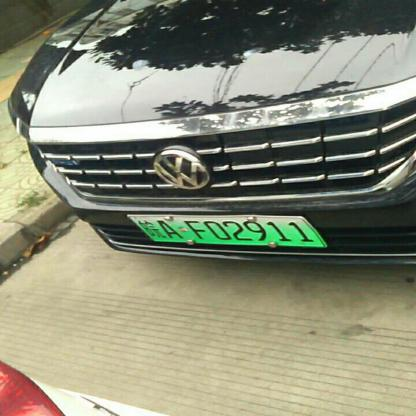lp: (126, 214, 327, 246)
